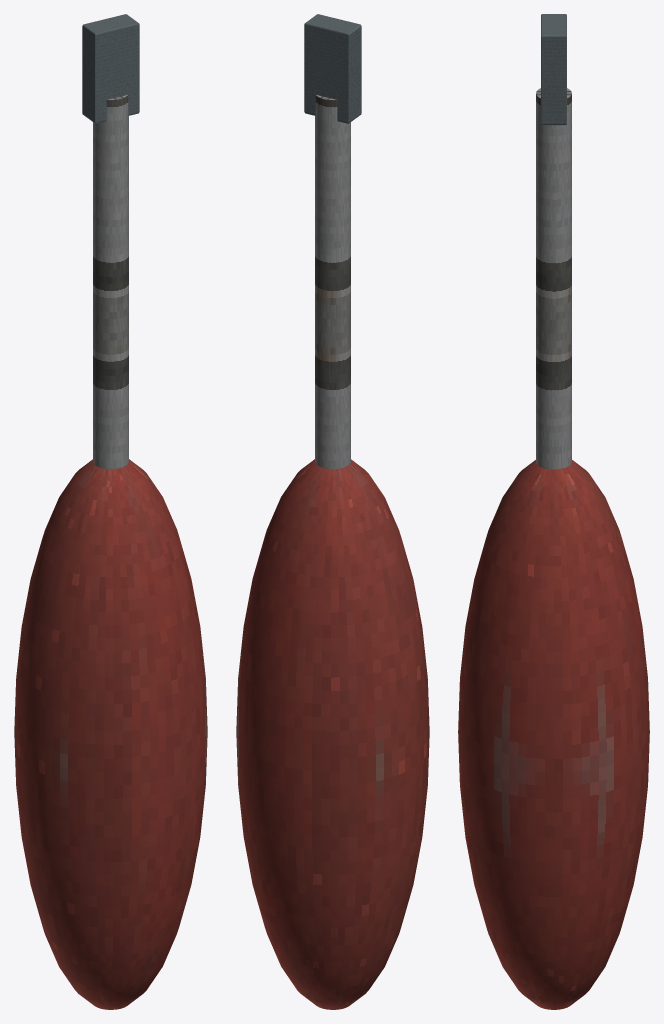
File: screwdriver.glb
3 renders of one model, left to right at view 1: azimuth 30°, elevation 25°; view 2: azimuth 150°, elevation 25°; view 3: azimuth 270°, elevation 25°, orthographic.
Visible parts, largest first — view 1: handle, shaft, tip; view 2: handle, shaft, tip; view 3: handle, shaft, tip.
Part boxes in pixels (bbox=[...]): handle: bbox=[14, 459, 207, 1009]; shaft: bbox=[93, 95, 128, 469]; tip: bbox=[82, 14, 139, 123]; handle: bbox=[236, 459, 429, 1009]; shaft: bbox=[315, 95, 350, 469]; tip: bbox=[304, 14, 361, 123]; handle: bbox=[458, 460, 649, 1009]; shaft: bbox=[536, 88, 571, 469]; tip: bbox=[541, 14, 566, 125].
Bounding box in the file's own units: 0.034 × 0.19 × 0.0336.
Materials: 3 (3 with a texture image).
